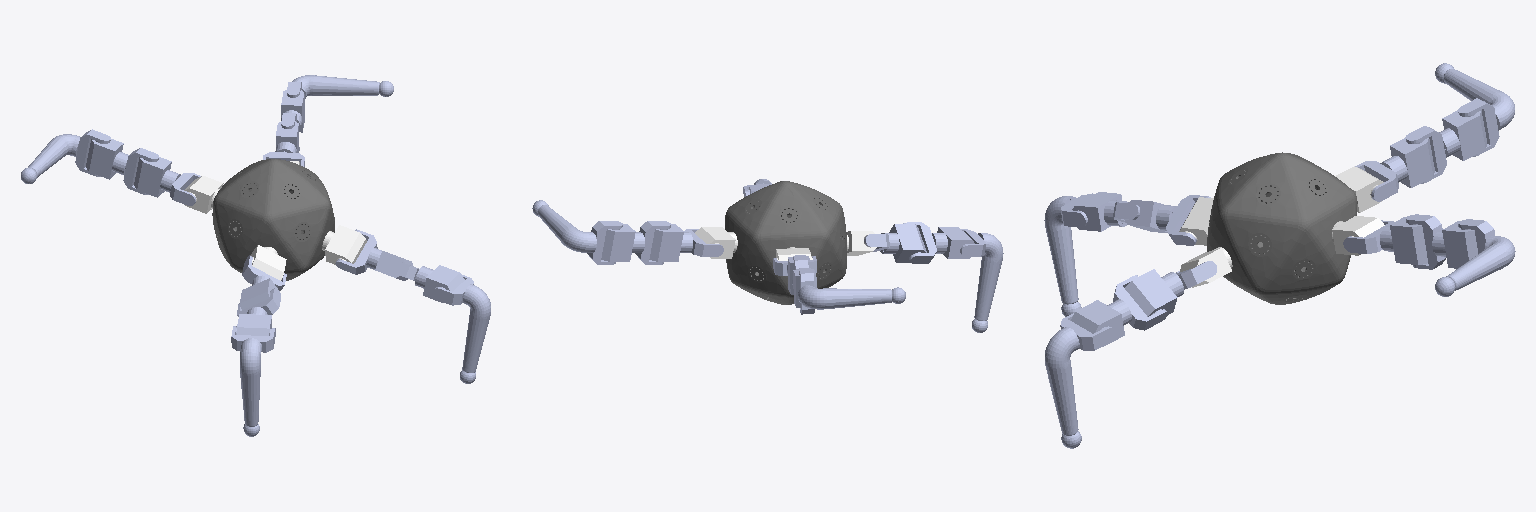
The robot description file, URDF, robot "mod_test":
<?xml version="1.0" encoding="utf-8"?>
<robot
  name="mod_test">
  <link
    name="base_link">
    <inertial>
      <origin
        xyz="-1.5226495220944E-06 1.5812928362389E-07 -5.05247252856584E-07"
        rpy="0 0 0" />
      <mass
        value="0.422806992949252" />
      <inertia
        ixx="0.00237499139253511"
        ixy="1.5717831530364E-08"
        ixz="1.49286265366169E-08"
        iyy="0.00237502154661776"
        iyz="-2.02154172619351E-08"
        izz="0.00237502595466009" />
    </inertial>
    <visual>
      <origin
        xyz="0 0 0"
        rpy="0 0 0" />
      <geometry>
        <mesh
          filename="package://meshes/base_link.STL" />
      </geometry>
      <material
        name="">
        <color
          rgba="0.498039215686275 0.498039215686275 0.498039215686275 1" />
      </material>
    </visual>
    <collision>
      <origin
        xyz="0 0 0"
        rpy="0 0 0" />
      <geometry>
        <mesh
          filename="package://meshes/base_link.STL" />
      </geometry>
    </collision>
  </link>
  <link
   name="70">
   <inertial>
      <origin
        xyz="0 0 0.028508"
        rpy="0 0 0" />
      <mass
        value="0.076173" />
      <inertia
        ixx="3.054E-05"
        ixy="0.000000"
        ixz="0.000000"
        iyy="2.1077E-05"
        iyz="0.000000"
        izz="2.1165E-05" />
    </inertial>
    <visual>
      <origin
        xyz="0 0 0"
        rpy="0 0 0" />
      <geometry>
        <mesh
          filename="package://meshes/1.STL" />
      </geometry>
      <material
        name="">
        <color
          rgba="1 1 1 1" />
      </material>
    </visual>
    <collision>
      <origin
        xyz="0 0 0"
        rpy="0 0 0" />
      <geometry>
        <mesh
          filename="package://meshes/1.STL" />
      </geometry>
    </collision>
  </link>
  <joint
    name="body_70"
    type="fixed">
    <origin
        xyz="0.051620 0.071049 0.016769"
        rpy="0.000000 -1.382126 -2.199115" />
    <parent
      link="base_link" />
    <child
      link="70" />
    <axis
      xyz="0 0 0" />
  </joint>
  <link
    name="71">
    <inertial>
      <origin
        xyz="0.060018 -1.4108E-06 1.4108E-06"
        rpy="0 0 0" />
    <mass
        value="0.10689" />
      <inertia
        ixx="3.2684e-05"
        ixy="-2.5662e-09"
        ixz="2.5662e-09"
        iyy="8.4132e-05"
        iyz="-2.1275e-13"
        izz="8.4583e-05" />
    </inertial>
    <visual>
      <origin
        xyz="0 0 0"
        rpy="0 0 0" />
      <geometry>
        <mesh
          filename="package://meshes/module9.STL" />
      </geometry>
      <material
        name="">
        <color
          rgba="0.79216 0.81961 0.93333 1" />
      </material>
    </visual>
    <collision>
      <origin
        xyz="0 0 0"
        rpy="0 0 0" />
      <geometry>
        <mesh
          filename="package://meshes/module9.STL" />
      </geometry>
    </collision>
  </link>
  <joint
    name="70_71"
    type="revolute">
    <origin
      xyz="0 0 0.04"
      rpy="-1.558 -1.5708 -0.012835" />
    <parent
      link="70" />
    <child
      link="71" />
    <axis
      xyz="0 0 1" />
    <limit
      lower="-6.28"
      upper="6.28"
      effort="10"
      velocity="100" />
  </joint>
  <link
    name="72">
    <inertial>
      <origin
        xyz="0.060018 -1.4108E-06 1.4108E-06"
        rpy="0 0 0" />
    <mass
        value="0.10689" />
      <inertia
        ixx="3.2684e-05"
        ixy="-2.5662e-09"
        ixz="2.5662e-09"
        iyy="9.3595e-05"
        iyz="-2.1275e-13"
        izz="7.512e-05" />
    </inertial>
    <visual>
      <origin
        xyz="0 0 0"
        rpy="0 0 0" />
      <geometry>
        <mesh
          filename="package://meshes/module0.STL" />
      </geometry>
      <material
        name="">
        <color
          rgba="0.79216 0.81961 0.93333 1" />
      </material>
    </visual>
    <collision>
      <origin
        xyz="0 0 0"
        rpy="0 0 0" />
      <geometry>
        <mesh
          filename="package://meshes/module0.STL" />
      </geometry>
    </collision>
  </link>
  <joint
    name="71_72"
    type="revolute">
    <origin
      xyz="0.0816 0 0"
      rpy="4.712389 0 0" />
    <parent
      link="71" />
    <child
      link="72" />
    <axis
      xyz="0 0 1" />
    <limit
      lower="-6.28"
      upper="6.28"
      effort="10"
      velocity="100" />
  </joint>
  <link
    name="73">
    <inertial>
      <origin
        xyz="0.051733 -0.042281 -1.3878E-17"
        rpy="0 0 0" />
    <mass
        value="0.12059" />
      <inertia
        ixx="0.00025425"
        ixy="4.8319E-05"
        ixz="0"
        iyy="5.0194E-05"
        iyz="-3.3141E-21"
        izz="0.00027482" />
    </inertial>
    <visual>
      <origin
        xyz="0 0 0"
        rpy="0 0 0" />
      <geometry>
        <mesh
          filename="package://meshes/leg.STL" />
      </geometry>
      <material
        name="">
        <color
          rgba="0.79216 0.81961 0.93333 1" />
      </material>
    </visual>
    <collision>
      <origin
        xyz="0 0 0"
        rpy="0 0 0" />
      <geometry>
        <mesh
          filename="package://meshes/leg.STL" />
      </geometry>
    </collision>
  </link>
  <joint
    name="72_73"
    type="revolute">
    <origin
      xyz="0.0816 0 0"
      rpy="0.000000 0 0" />
    <parent
      link="72" />
    <child
      link="73" />
    <axis
      xyz="0 0 1" />
    <limit
      lower="-6.28"
      upper="6.28"
      effort="10"
      velocity="100" />
  </joint>
  <link
   name="100">
   <inertial>
      <origin
        xyz="0 0 0.028508"
        rpy="0 0 0" />
      <mass
        value="0.076173" />
      <inertia
        ixx="3.054E-05"
        ixy="0.000000"
        ixz="0.000000"
        iyy="2.1077E-05"
        iyz="0.000021"
        izz="2.1165E-05" />
    </inertial>
    <visual>
      <origin
        xyz="0 0 0"
        rpy="0 0 0" />
      <geometry>
        <mesh
          filename="package://meshes/1.STL" />
      </geometry>
      <material
        name="">
        <color
          rgba="1 1 1 1" />
      </material>
    </visual>
    <collision>
      <origin
        xyz="0 0 0"
        rpy="0 0 0" />
      <geometry>
        <mesh
          filename="package://meshes/1.STL" />
      </geometry>
    </collision>
  </link>
  <joint
    name="body_100"
    type="fixed">
    <origin
        xyz="0.051620 -0.071049 -0.016769"
        rpy="-1.935587 -1.017234 -2.199177" />
    <parent
      link="base_link" />
    <child
      link="100" />
    <axis
      xyz="0 0 0" />
  </joint>
  <link
    name="101">
    <inertial>
      <origin
        xyz="0.060018 -1.4108E-06 1.4108E-06"
        rpy="0 0 0" />
    <mass
        value="0.10689" />
      <inertia
        ixx="3.2684e-05"
        ixy="-2.5662e-09"
        ixz="2.5662e-09"
        iyy="8.6498e-05"
        iyz="-4.0975e-06"
        izz="8.2217e-05" />
    </inertial>
    <visual>
      <origin
        xyz="0 0 0"
        rpy="0 0 0" />
      <geometry>
        <mesh
          filename="package://meshes/module10.STL" />
      </geometry>
      <material
        name="">
        <color
          rgba="0.79216 0.81961 0.93333 1" />
      </material>
    </visual>
    <collision>
      <origin
        xyz="0 0 0"
        rpy="0 0 0" />
      <geometry>
        <mesh
          filename="package://meshes/module10.STL" />
      </geometry>
    </collision>
  </link>
  <joint
    name="100_101"
    type="revolute">
    <origin
      xyz="0 0 0.04"
      rpy="-1.558 -1.5708 -0.012835" />
    <parent
      link="100" />
    <child
      link="101" />
    <axis
      xyz="0 0 1" />
    <limit
      lower="-6.28"
      upper="6.28"
      effort="10"
      velocity="100" />
  </joint>
  <link
    name="102">
    <inertial>
      <origin
        xyz="0.060018 -1.4108E-06 1.4108E-06"
        rpy="0 0 0" />
    <mass
        value="0.10689" />
      <inertia
        ixx="3.2684e-05"
        ixy="-2.5662e-09"
        ixz="2.5662e-09"
        iyy="9.1229e-05"
        iyz="4.0975e-06"
        izz="7.7485e-05" />
    </inertial>
    <visual>
      <origin
        xyz="0 0 0"
        rpy="0 0 0" />
      <geometry>
        <mesh
          filename="package://meshes/module1.STL" />
      </geometry>
      <material
        name="">
        <color
          rgba="0.79216 0.81961 0.93333 1" />
      </material>
    </visual>
    <collision>
      <origin
        xyz="0 0 0"
        rpy="0 0 0" />
      <geometry>
        <mesh
          filename="package://meshes/module1.STL" />
      </geometry>
    </collision>
  </link>
  <joint
    name="101_102"
    type="revolute">
    <origin
      xyz="0.0816 0 0"
      rpy="5.235988 0 0" />
    <parent
      link="101" />
    <child
      link="102" />
    <axis
      xyz="0 0 1" />
    <limit
      lower="-6.28"
      upper="6.28"
      effort="10"
      velocity="100" />
  </joint>
  <link
    name="103">
    <inertial>
      <origin
        xyz="0.051733 -0.042281 -1.3878E-17"
        rpy="0 0 0" />
    <mass
        value="0.12059" />
      <inertia
        ixx="0.00025425"
        ixy="4.8319E-05"
        ixz="0"
        iyy="5.0194E-05"
        iyz="-3.3141E-21"
        izz="0.00027482" />
    </inertial>
    <visual>
      <origin
        xyz="0 0 0"
        rpy="0 0 0" />
      <geometry>
        <mesh
          filename="package://meshes/leg.STL" />
      </geometry>
      <material
        name="">
        <color
          rgba="0.79216 0.81961 0.93333 1" />
      </material>
    </visual>
    <collision>
      <origin
        xyz="0 0 0"
        rpy="0 0 0" />
      <geometry>
        <mesh
          filename="package://meshes/leg.STL" />
      </geometry>
    </collision>
  </link>
  <joint
    name="102_103"
    type="revolute">
    <origin
      xyz="0.0816 0 0"
      rpy="0.523599 0 0" />
    <parent
      link="102" />
    <child
      link="103" />
    <axis
      xyz="0 0 1" />
    <limit
      lower="-6.28"
      upper="6.28"
      effort="10"
      velocity="100" />
  </joint>
  <link
   name="140">
   <inertial>
      <origin
        xyz="0 0 0.028508"
        rpy="0 0 0" />
      <mass
        value="0.076173" />
      <inertia
        ixx="3.054E-05"
        ixy="0.000000"
        ixz="-0.000000"
        iyy="2.1077E-05"
        iyz="-0.000000"
        izz="2.1165E-05" />
    </inertial>
    <visual>
      <origin
        xyz="0 0 0"
        rpy="0 0 0" />
      <geometry>
        <mesh
          filename="package://meshes/1.STL" />
      </geometry>
      <material
        name="">
        <color
          rgba="1 1 1 1" />
      </material>
    </visual>
    <collision>
      <origin
        xyz="0 0 0"
        rpy="0 0 0" />
      <geometry>
        <mesh
          filename="package://meshes/1.STL" />
      </geometry>
    </collision>
  </link>
  <joint
    name="body_140"
    type="fixed">
    <origin
        xyz="-0.051620 -0.071049 -0.016769"
        rpy="1.935587 -1.017234 -0.942416" />
    <parent
      link="base_link" />
    <child
      link="140" />
    <axis
      xyz="0 0 0" />
  </joint>
  <link
    name="141">
    <inertial>
      <origin
        xyz="0.060018 -1.4108E-06 1.4108E-06"
        rpy="0 0 0" />
    <mass
        value="0.10689" />
      <inertia
        ixx="3.2684e-05"
        ixy="-2.5662e-09"
        ixz="2.5662e-09"
        iyy="8.6498e-05"
        iyz="4.0975e-06"
        izz="8.2217e-05" />
    </inertial>
    <visual>
      <origin
        xyz="0 0 0"
        rpy="0 0 0" />
      <geometry>
        <mesh
          filename="package://meshes/module2.STL" />
      </geometry>
      <material
        name="">
        <color
          rgba="0.79216 0.81961 0.93333 1" />
      </material>
    </visual>
    <collision>
      <origin
        xyz="0 0 0"
        rpy="0 0 0" />
      <geometry>
        <mesh
          filename="package://meshes/module2.STL" />
      </geometry>
    </collision>
  </link>
  <joint
    name="140_141"
    type="revolute">
    <origin
      xyz="0 0 0.04"
      rpy="-1.558 -1.5708 -0.012835" />
    <parent
      link="140" />
    <child
      link="141" />
    <axis
      xyz="0 0 1" />
    <limit
      lower="-6.28"
      upper="6.28"
      effort="10"
      velocity="100" />
  </joint>
  <link
    name="142">
    <inertial>
      <origin
        xyz="0.060018 -1.4108E-06 1.4108E-06"
        rpy="0 0 0" />
    <mass
        value="0.10689" />
      <inertia
        ixx="3.2684e-05"
        ixy="-2.5662e-09"
        ixz="2.5662e-09"
        iyy="9.1229e-05"
        iyz="-4.0975e-06"
        izz="7.7485e-05" />
    </inertial>
    <visual>
      <origin
        xyz="0 0 0"
        rpy="0 0 0" />
      <geometry>
        <mesh
          filename="package://meshes/module11.STL" />
      </geometry>
      <material
        name="">
        <color
          rgba="0.79216 0.81961 0.93333 1" />
      </material>
    </visual>
    <collision>
      <origin
        xyz="0 0 0"
        rpy="0 0 0" />
      <geometry>
        <mesh
          filename="package://meshes/module11.STL" />
      </geometry>
    </collision>
  </link>
  <joint
    name="141_142"
    type="revolute">
    <origin
      xyz="0.0816 0 0"
      rpy="1.047198 0 0" />
    <parent
      link="141" />
    <child
      link="142" />
    <axis
      xyz="0 0 1" />
    <limit
      lower="-6.28"
      upper="6.28"
      effort="10"
      velocity="100" />
  </joint>
  <link
    name="143">
    <inertial>
      <origin
        xyz="0.051733 -0.042281 -1.3878E-17"
        rpy="0 0 0" />
    <mass
        value="0.12059" />
      <inertia
        ixx="0.00025425"
        ixy="4.8319E-05"
        ixz="0"
        iyy="5.0194E-05"
        iyz="-3.3141E-21"
        izz="0.00027482" />
    </inertial>
    <visual>
      <origin
        xyz="0 0 0"
        rpy="0 0 0" />
      <geometry>
        <mesh
          filename="package://meshes/leg.STL" />
      </geometry>
      <material
        name="">
        <color
          rgba="0.79216 0.81961 0.93333 1" />
      </material>
    </visual>
    <collision>
      <origin
        xyz="0 0 0"
        rpy="0 0 0" />
      <geometry>
        <mesh
          filename="package://meshes/leg.STL" />
      </geometry>
    </collision>
  </link>
  <joint
    name="142_143"
    type="revolute">
    <origin
      xyz="0.0816 0 0"
      rpy="5.759587 0 0" />
    <parent
      link="142" />
    <child
      link="143" />
    <axis
      xyz="0 0 1" />
    <limit
      lower="-6.28"
      upper="6.28"
      effort="10"
      velocity="100" />
  </joint>
  <link
   name="80">
   <inertial>
      <origin
        xyz="0 0 0.028508"
        rpy="0 0 0" />
      <mass
        value="0.076173" />
      <inertia
        ixx="3.054E-05"
        ixy="0.000000"
        ixz="0.000000"
        iyy="2.1077E-05"
        iyz="0.000000"
        izz="2.1165E-05" />
    </inertial>
    <visual>
      <origin
        xyz="0 0 0"
        rpy="0 0 0" />
      <geometry>
        <mesh
          filename="package://meshes/1.STL" />
      </geometry>
      <material
        name="">
        <color
          rgba="1 1 1 1" />
      </material>
    </visual>
    <collision>
      <origin
        xyz="0 0 0"
        rpy="0 0 0" />
      <geometry>
        <mesh
          filename="package://meshes/1.STL" />
      </geometry>
    </collision>
  </link>
  <joint
    name="body_80"
    type="fixed">
    <origin
        xyz="-0.051620 0.071049 0.016769"
        rpy="0.000000 -1.382126 -0.942478" />
    <parent
      link="base_link" />
    <child
      link="80" />
    <axis
      xyz="0 0 0" />
  </joint>
  <link
    name="81">
    <inertial>
      <origin
        xyz="0.060018 -1.4108E-06 1.4108E-06"
        rpy="0 0 0" />
    <mass
        value="0.10689" />
      <inertia
        ixx="3.2684e-05"
        ixy="-2.5662e-09"
        ixz="2.5662e-09"
        iyy="8.4132e-05"
        iyz="-2.1275e-13"
        izz="8.4583e-05" />
    </inertial>
    <visual>
      <origin
        xyz="0 0 0"
        rpy="0 0 0" />
      <geometry>
        <mesh
          filename="package://meshes/module3.STL" />
      </geometry>
      <material
        name="">
        <color
          rgba="0.79216 0.81961 0.93333 1" />
      </material>
    </visual>
    <collision>
      <origin
        xyz="0 0 0"
        rpy="0 0 0" />
      <geometry>
        <mesh
          filename="package://meshes/module3.STL" />
      </geometry>
    </collision>
  </link>
  <joint
    name="80_81"
    type="revolute">
    <origin
      xyz="0 0 0.04"
      rpy="-1.558 -1.5708 -0.012835" />
    <parent
      link="80" />
    <child
      link="81" />
    <axis
      xyz="0 0 1" />
    <limit
      lower="-6.28"
      upper="6.28"
      effort="10"
      velocity="100" />
  </joint>
  <link
    name="82">
    <inertial>
      <origin
        xyz="0.060018 -1.4108E-06 1.4108E-06"
        rpy="0 0 0" />
    <mass
        value="0.10689" />
      <inertia
        ixx="3.2684e-05"
        ixy="-2.5662e-09"
        ixz="2.5662e-09"
        iyy="9.3595e-05"
        iyz="-2.1275e-13"
        izz="7.512e-05" />
    </inertial>
    <visual>
      <origin
        xyz="0 0 0"
        rpy="0 0 0" />
      <geometry>
        <mesh
          filename="package://meshes/module0.STL" />
      </geometry>
      <material
        name="">
        <color
          rgba="0.79216 0.81961 0.93333 1" />
      </material>
    </visual>
    <collision>
      <origin
        xyz="0 0 0"
        rpy="0 0 0" />
      <geometry>
        <mesh
          filename="package://meshes/module0.STL" />
      </geometry>
    </collision>
  </link>
  <joint
    name="81_82"
    type="revolute">
    <origin
      xyz="0.0816 0 0"
      rpy="1.570796 0 0" />
    <parent
      link="81" />
    <child
      link="82" />
    <axis
      xyz="0 0 1" />
    <limit
      lower="-6.28"
      upper="6.28"
      effort="10"
      velocity="100" />
  </joint>
  <link
    name="83">
    <inertial>
      <origin
        xyz="0.051733 -0.042281 -1.3878E-17"
        rpy="0 0 0" />
    <mass
        value="0.12059" />
      <inertia
        ixx="0.00025425"
        ixy="4.8319E-05"
        ixz="0"
        iyy="5.0194E-05"
        iyz="-3.3141E-21"
        izz="0.00027482" />
    </inertial>
    <visual>
      <origin
        xyz="0 0 0"
        rpy="0 0 0" />
      <geometry>
        <mesh
          filename="package://meshes/leg.STL" />
      </geometry>
      <material
        name="">
        <color
          rgba="0.79216 0.81961 0.93333 1" />
      </material>
    </visual>
    <collision>
      <origin
        xyz="0 0 0"
        rpy="0 0 0" />
      <geometry>
        <mesh
          filename="package://meshes/leg.STL" />
      </geometry>
    </collision>
  </link>
  <joint
    name="82_83"
    type="revolute">
    <origin
      xyz="0.0816 0 0"
      rpy="0.000000 0 0" />
    <parent
      link="82" />
    <child
      link="83" />
    <axis
      xyz="0 0 1" />
    <limit
      lower="-6.28"
      upper="6.28"
      effort="10"
      velocity="100" />
  </joint>
  <link
    name = "ball_1">
    <inertial>
    <origin
        xyz="0 0 0"
        rpy="0 0 0" />
    <mass
        value="0" />
      <inertia
        ixx="0"
        ixy="0"
        ixz="0"
        iyy="0"
        iyz="0"
        izz="0" />
    </inertial>    <visual>
      <origin
        xyz="0 0 0"
        rpy="0 0 0" />
     <geometry>
        <sphere radius = "0.01"/>
      </geometry>
      <material
        name="green">
        <color
          rgba="0.22 1 0.4 1" />
      </material>
    </visual>
  </link>
  <joint
  name="73_ball1"
  type="fixed">
    <origin
      xyz="0.0612 -0.13431 0"
      rpy="0 0 0" />
    <parent
      link="73" />
    <child
      link="ball_1" />
    <axis
      xyz="0 0 0" />
  </joint>
  <link
    name = "ball_2">
    <inertial>
    <origin
        xyz="0 0 0"
        rpy="0 0 0" />
    <mass
        value="0" />
      <inertia
        ixx="0"
        ixy="0"
        ixz="0"
        iyy="0"
        iyz="0"
        izz="0" />
    </inertial>    <visual>
      <origin
        xyz="0 0 0"
        rpy="0 0 0" />
      <geometry>
        <sphere radius = "0.01"/>
      </geometry>
      <material
        name="blue">
        <color
          rgba="0.16 0.52 0.8 1" />
      </material>
    </visual>
  </link>
  <joint
  name="103_ball2"
  type="fixed">
    <origin
      xyz="0.0612 -0.13431 0"
      rpy="0 0 0" />
    <parent
      link="103" />
    <child
      link="ball_2" />
    <axis
      xyz="0 0 0" />
  </joint>
  <link
    name = "ball_3">
    <inertial>
    <origin
        xyz="0 0 0"
        rpy="0 0 0" />
    <mass
        value="0" />
      <inertia
        ixx="0"
        ixy="0"
        ixz="0"
        iyy="0"
        iyz="0"
        izz="0" />
    </inertial>    <visual>
      <origin
        xyz="0 0 0"
        rpy="0 0 0" />
     <geometry>
        <sphere radius = "0.01"/>
      </geometry>
      <material
        name="blue">
        <color
          rgba="0.16 0.52 0.8 1" />
      </material>
    </visual>
  </link>
  <joint
  name="143_ball3"
  type="fixed">
    <origin
      xyz="0.0612 -0.13431 0"
      rpy="0 0 0" />
    <parent
      link="143" />
    <child
      link="ball_3" />
    <axis
      xyz="0 0 0" />
  </joint>
  <link
    name = "ball_4">
    <inertial>
    <origin
        xyz="0 0 0"
        rpy="0 0 0" />
    <mass
        value="0" />
      <inertia
        ixx="0"
        ixy="0"
        ixz="0"
        iyy="0"
        iyz="0"
        izz="0" />
    </inertial>    <visual>
      <origin
        xyz="0 0 0"
        rpy="0 0 0" />
      <geometry>
        <sphere radius = "0.01"/>
      </geometry>
      <material
        name="yellow">
        <color
          rgba="1 1 0 1" />
      </material>
    </visual>
  </link>
  <joint
  name="83_ball4"
  type="fixed">
    <origin
      xyz="0.0612 -0.13431 0"
      rpy="0 0 0" />
    <parent
      link="83" />
    <child
      link="ball_4" />
    <axis
      xyz="0 0 0" />
  </joint>
</robot>

--- Facts derived from the render (not from the file) ---
3 views of the same robot in one strip: view 1: azimuth 30°, elevation 25°; view 2: azimuth 150°, elevation 25°; view 3: azimuth 270°, elevation 25° (orthographic).
Robot: mod_test — 21 links, 20 joints (12 revolute, 8 fixed); root link base_link; default pose: every joint at zero.
Visible links, largest first — view 1: base_link, 103, 143, 82, 83, 81, 73, 102, 142, 101, 100, 141 (+4 smaller); view 2: base_link, 83, 143, 73, 72, 71, 142, 141, 70, 140, 81; view 3: base_link, 103, 143, 83, 82, 81, 73, 101, 102, 71, 72, 141 (+5 smaller).
Link boxes in pixels (left/top/right/bottom): base_link: left=212, top=159, right=334, bottom=280; 103: left=432, top=274, right=490, bottom=383; 143: left=231, top=326, right=275, bottom=436; 82: left=86, top=139, right=158, bottom=194; 83: left=21, top=129, right=110, bottom=183; 81: left=134, top=157, right=200, bottom=205; 73: left=287, top=75, right=393, bottom=98; 102: left=387, top=259, right=464, bottom=302; 142: left=236, top=288, right=280, bottom=335; 101: left=335, top=229, right=413, bottom=280; 100: left=322, top=225, right=366, bottom=264; 141: left=240, top=255, right=286, bottom=309; base_link: left=725, top=181, right=846, bottom=304; 83: left=798, top=268, right=905, bottom=314; 143: left=960, top=229, right=1003, bottom=332; 73: left=532, top=200, right=622, bottom=264; 72: left=601, top=221, right=670, bottom=264; 71: left=649, top=224, right=723, bottom=261; 142: left=903, top=222, right=974, bottom=263; 141: left=864, top=224, right=926, bottom=262; 70: left=695, top=227, right=737, bottom=258; 140: left=847, top=231, right=876, bottom=255; 81: left=773, top=256, right=816, bottom=294; base_link: left=1207, top=152, right=1357, bottom=304; 103: left=1045, top=313, right=1115, bottom=448; 143: left=1044, top=193, right=1093, bottom=316; 83: left=1435, top=63, right=1514, bottom=156; 82: left=1406, top=110, right=1486, bottom=183; 81: left=1355, top=137, right=1434, bottom=201; 73: left=1435, top=219, right=1515, bottom=296; 101: left=1125, top=261, right=1216, bottom=316; 102: left=1071, top=275, right=1167, bottom=346; 71: left=1343, top=217, right=1427, bottom=264; 72: left=1406, top=214, right=1477, bottom=269; 141: left=1125, top=195, right=1210, bottom=245.
Size in the robot's own frame: 0.6511 by 0.5835 by 0.3132 metres.
17 mesh visuals loaded from 10 distinct referenced files (10 binary STL).
